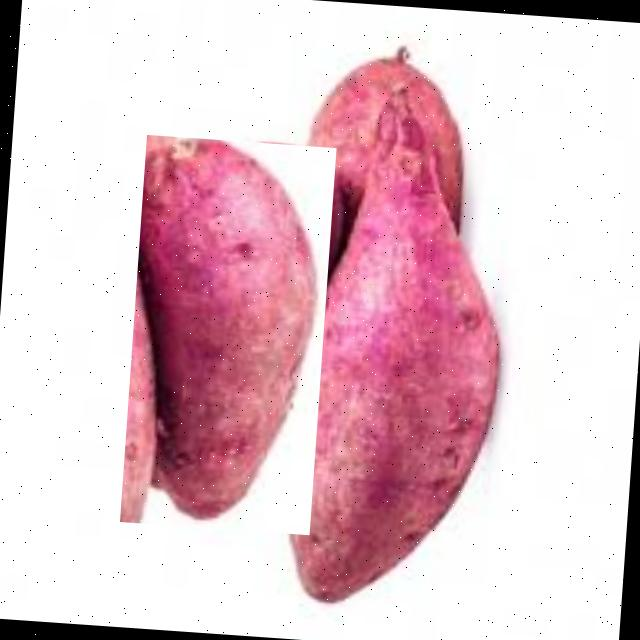Defected potato: (263, 141, 534, 598), (120, 134, 336, 534)
